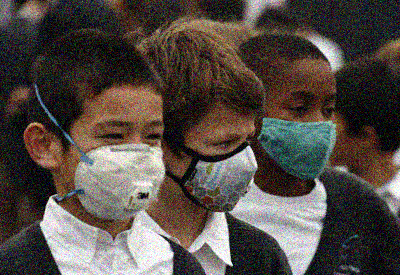with_mask: (61, 117, 167, 222), (175, 127, 258, 214), (258, 90, 338, 180)
